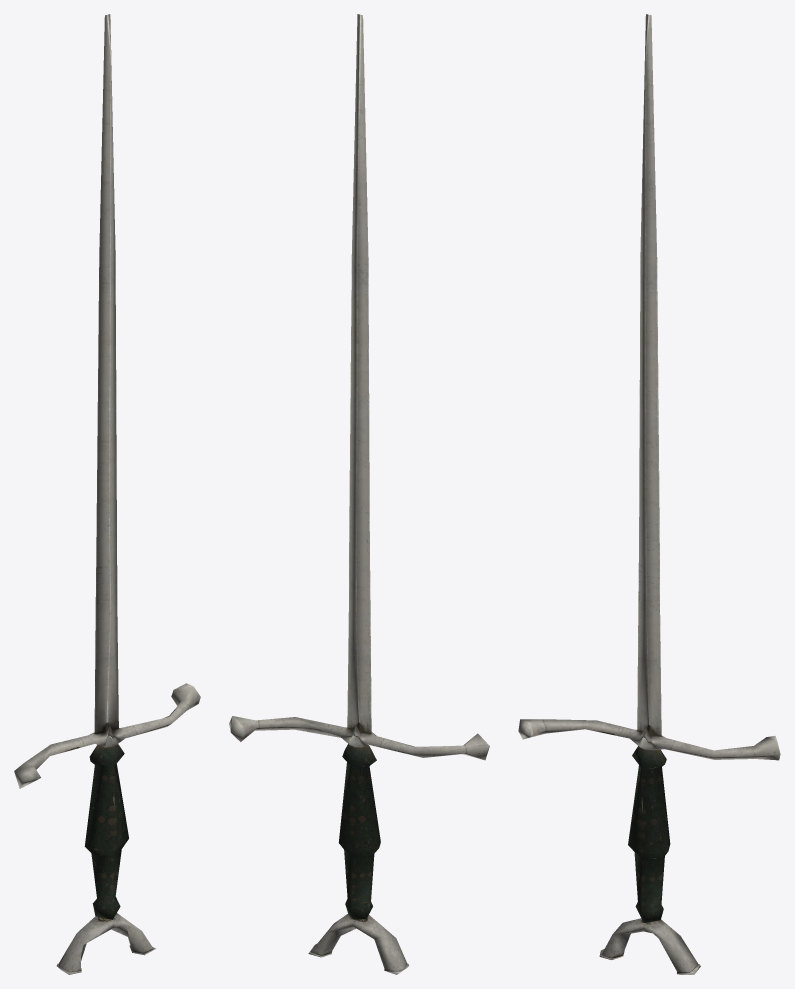
File: antique_estoc.glb
The picture shows the model from 3 angles, left to right: view 1: azimuth 30°, elevation 25°; view 2: azimuth 150°, elevation 25°; view 3: azimuth 330°, elevation 25°; orthographic projection.
Visible parts, largest first — view 1: antique_estoc; view 2: antique_estoc; view 3: antique_estoc.
Part boxes in pixels (left/top/right/bottom): antique_estoc: left=14, top=14, right=200, bottom=974; antique_estoc: left=229, top=14, right=489, bottom=974; antique_estoc: left=518, top=14, right=780, bottom=974.
Bounding box in the file's own units: 0.3659 × 1.48 × 0.1448.
Materials: 1 (1 with a texture image).
